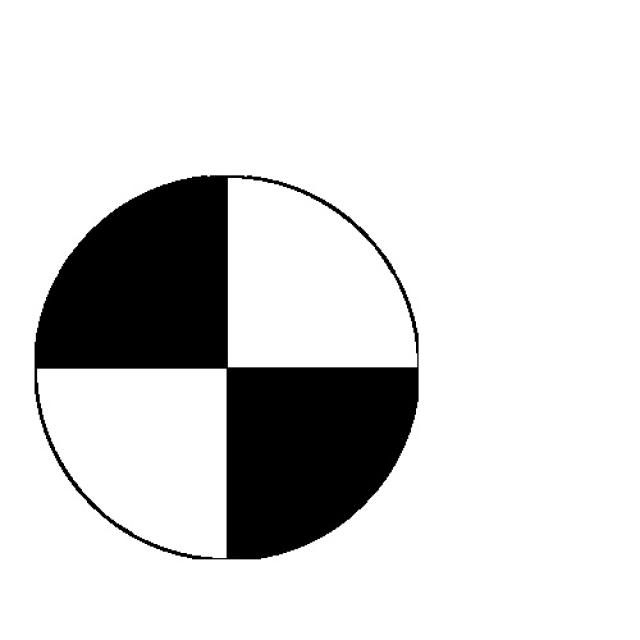Marcadores: (34, 176, 421, 560)
